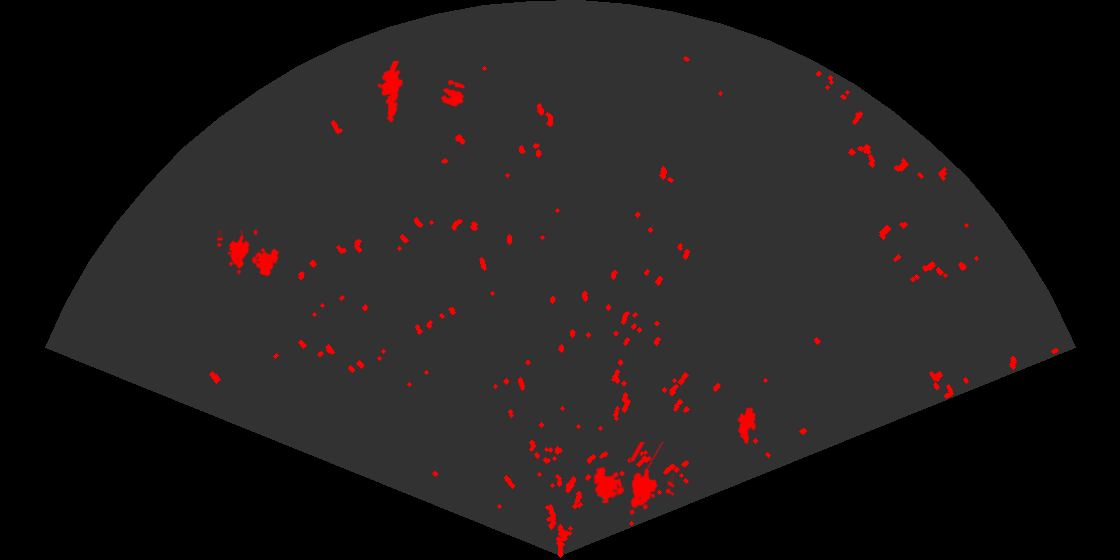AUV: (736, 405, 757, 446)
ball: (439, 78, 467, 108)
cage: (592, 442, 674, 517), (217, 230, 281, 278)
frogman: (376, 61, 405, 124)
